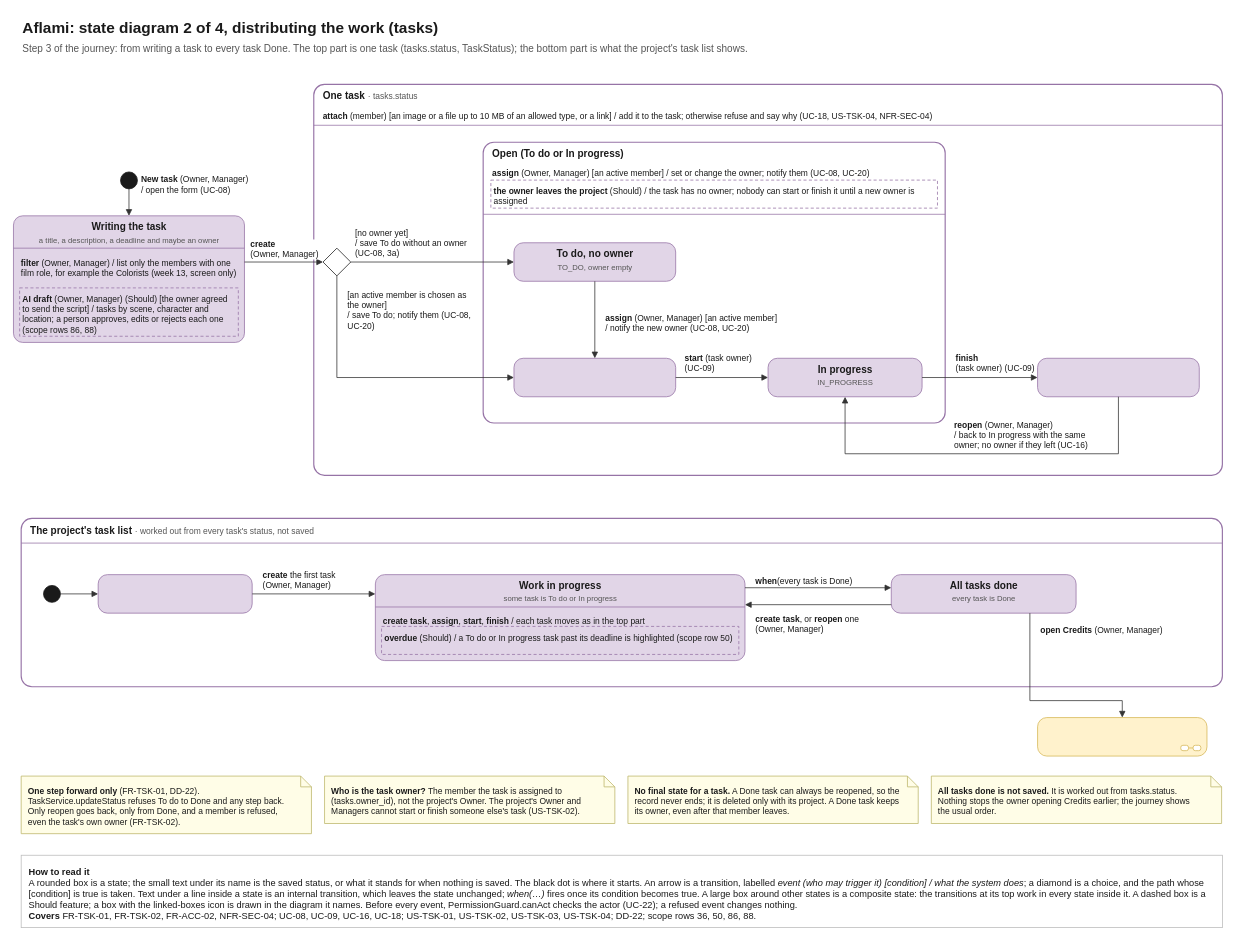
Some shapes in this 1237 by 941 pixel diagram are drawn without their labels. The centre of each missing label's shape, as x and y in pixels:
"Done DONE" belongs at pixel 1118 377.
"No tasks yet the team is ready to work" belongs at pixel 174 593.
"The credits step 4 · state diagram 3" belongs at pixel 1122 736.
"To do TO_DO" belongs at pixel 594 377.
